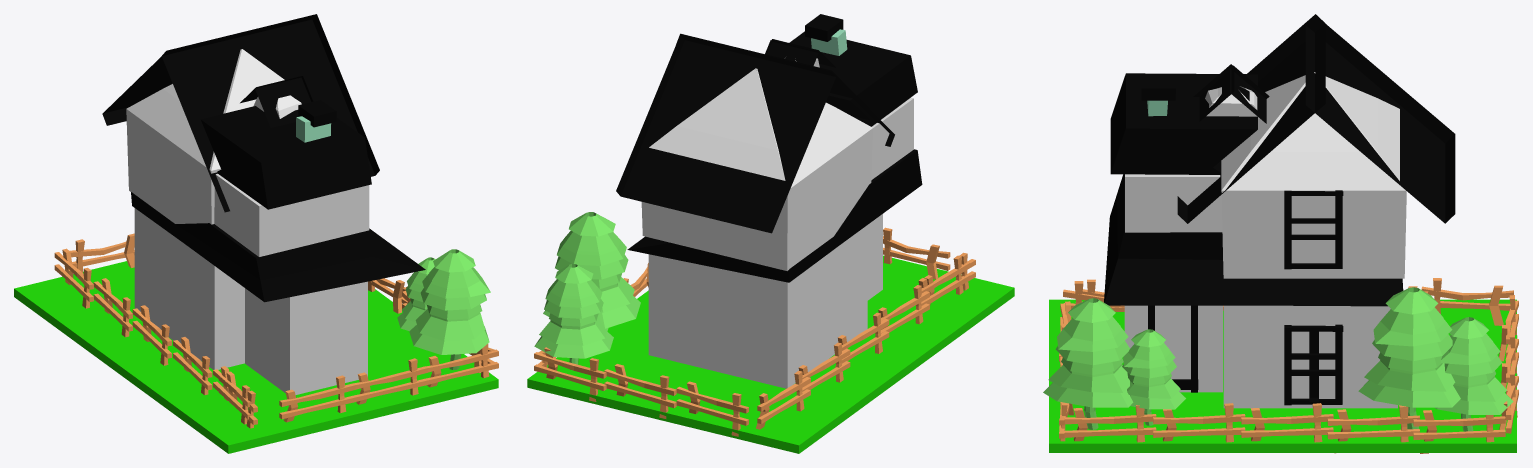
File: home.fbx
The picture shows the model from 3 angles, left to right: view 1: azimuth 30°, elevation 25°; view 2: azimuth 150°, elevation 25°; view 3: azimuth 270°, elevation 25°; orthographic projection. The views are drawn at different scales.
Parts seen in each view (by area): view 1: Plane, Plane.003; view 2: Plane, Plane.003; view 3: Plane, Plane.003.
Part boxes in pixels (left/top/right/bottom): Plane: left=14, top=14, right=498, bottom=453; Plane.003: left=126, top=49, right=369, bottom=394; Plane: left=527, top=14, right=1014, bottom=453; Plane.003: left=641, top=57, right=913, bottom=388; Plane: left=1043, top=14, right=1518, bottom=453; Plane.003: left=1124, top=72, right=1406, bottom=408.
Bounding box in the file's own units: 708 × 711 × 928.
